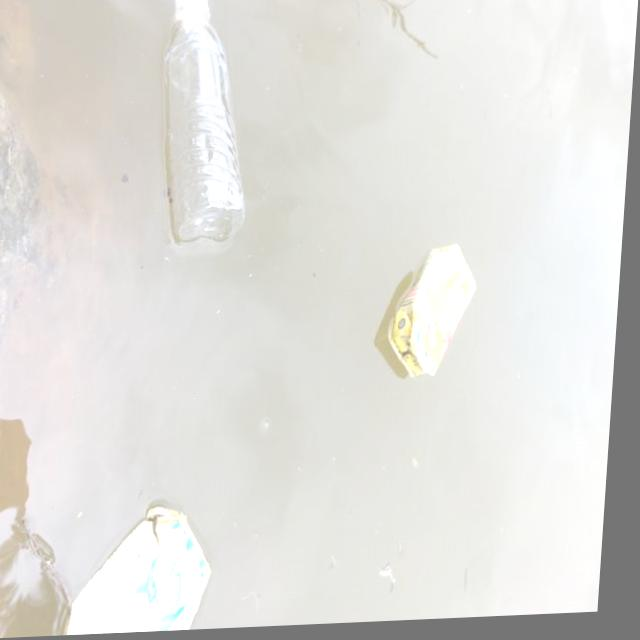paper: (362, 233, 506, 399), (72, 496, 238, 636)
waterbottle: (134, 0, 274, 271)
